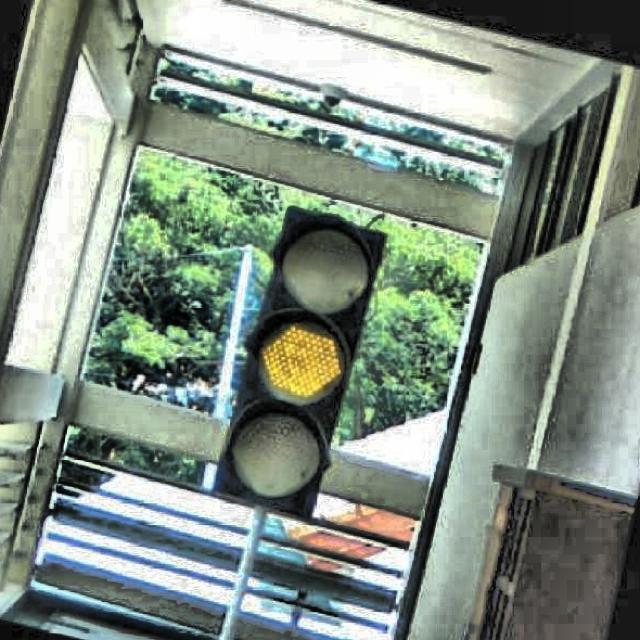yellow: (222, 207, 381, 511)
